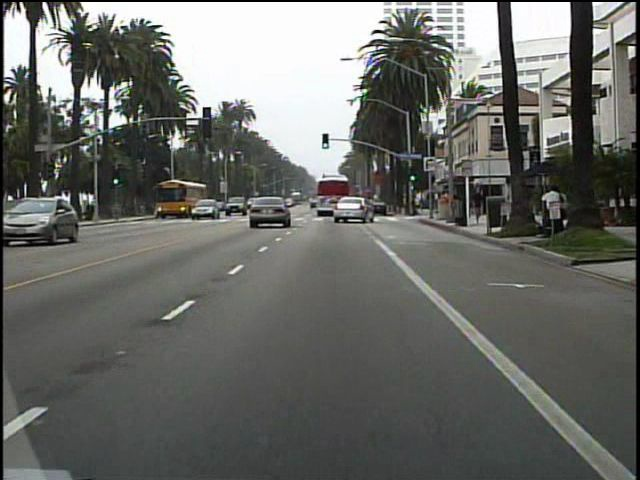person: (541, 181, 569, 241), (472, 185, 487, 228), (450, 185, 466, 222)
